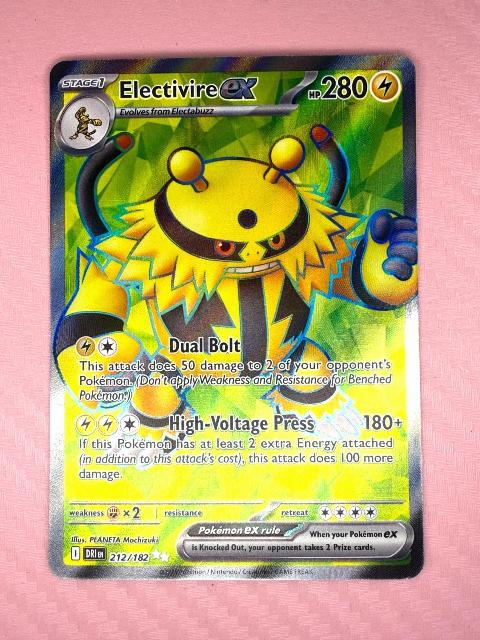Card: (43, 48, 431, 584)
Name: (116, 74, 263, 105)
